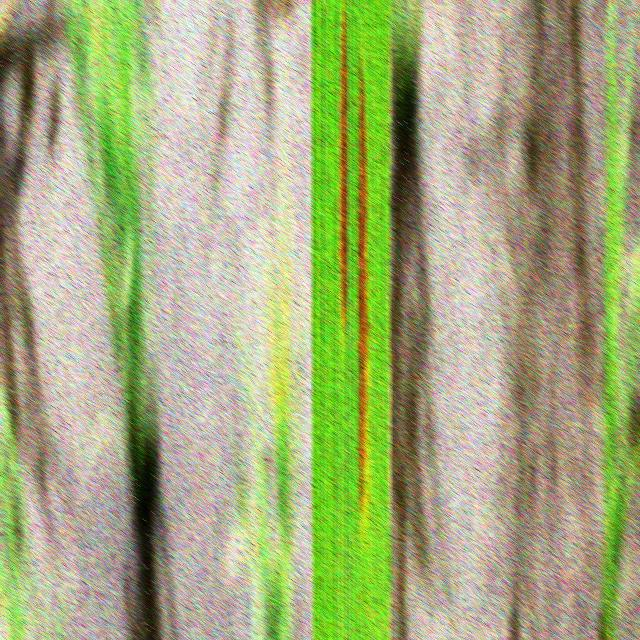NBS: (358, 59, 369, 517), (340, 5, 348, 323)
